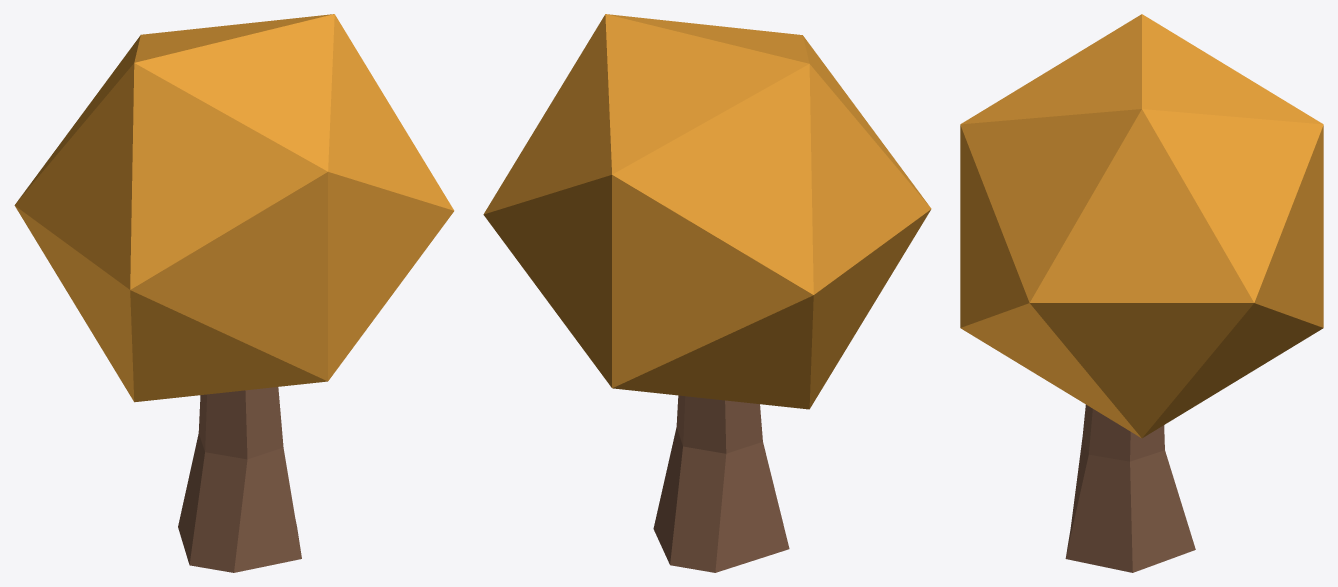
File: deciduous_tree_6.fbx
3 views of the same model, side by side, from view 1: azimuth 30°, elevation 25°; view 2: azimuth 150°, elevation 25°; view 3: azimuth 270°, elevation 25° (orthographic). The views are drawn at different scales.
Parts seen in each view (by area): view 1: deciduous_tree_6; view 2: deciduous_tree_6; view 3: deciduous_tree_6.
Part boxes in pixels (x1,y1,x2,y2): deciduous_tree_6: (14,14,454,572); deciduous_tree_6: (483,14,931,572); deciduous_tree_6: (960,14,1323,572).
Size of the model in its own units: 234 by 344 by 234.
